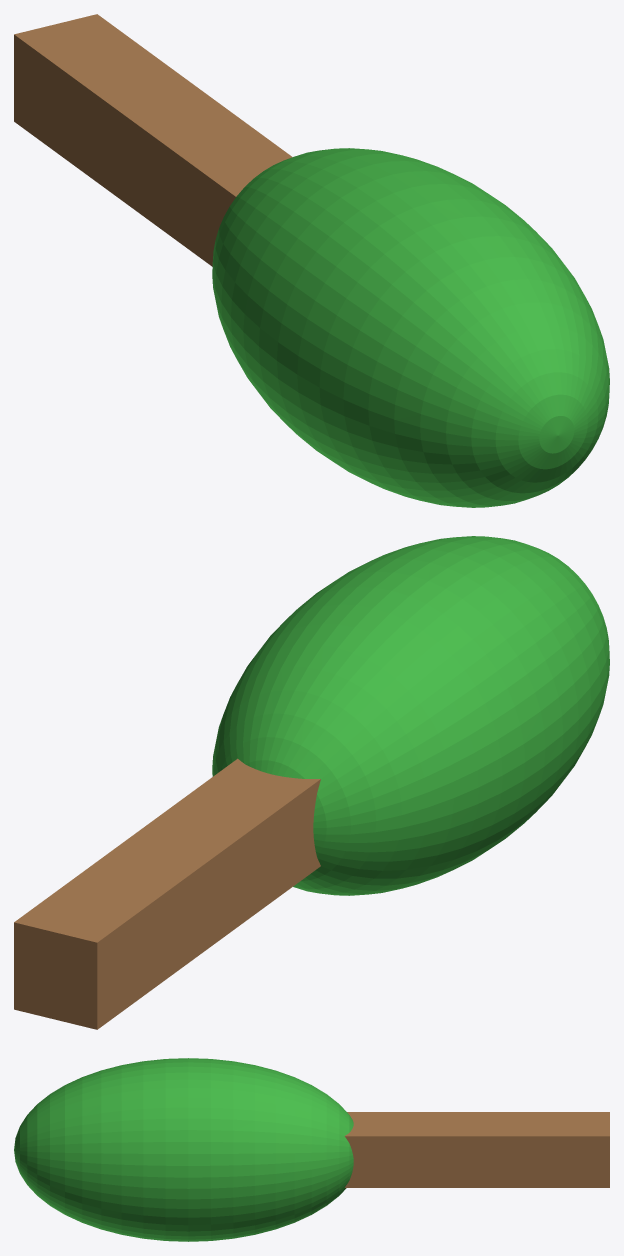
The model's file is tree.obj.
3 renders of one model, top to bottom at view 1: azimuth 30°, elevation 25°; view 2: azimuth 150°, elevation 25°; view 3: azimuth 270°, elevation 25°, orthographic. The views are drawn at different scales.
Visible parts, largest first — view 1: group_0_4634441, group_0_11107152; view 2: group_0_4634441, group_0_11107152; view 3: group_0_4634441, group_0_11107152.
Part boxes in pixels (box(x1,y1,x2,y2)): group_0_4634441: box(212, 148, 609, 507); group_0_11107152: box(14, 14, 292, 266); group_0_4634441: box(212, 536, 609, 895); group_0_11107152: box(14, 758, 320, 1029); group_0_4634441: box(14, 1058, 353, 1241); group_0_11107152: box(344, 1112, 609, 1187).
Size of the model in its own units: 35 by 35 by 113.
